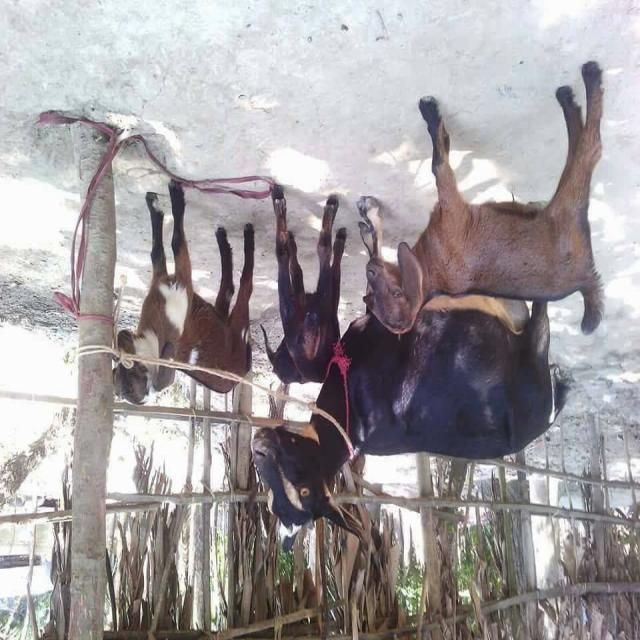Goat: (250, 194, 573, 555), (362, 62, 607, 340), (113, 180, 257, 407), (261, 185, 348, 387)
